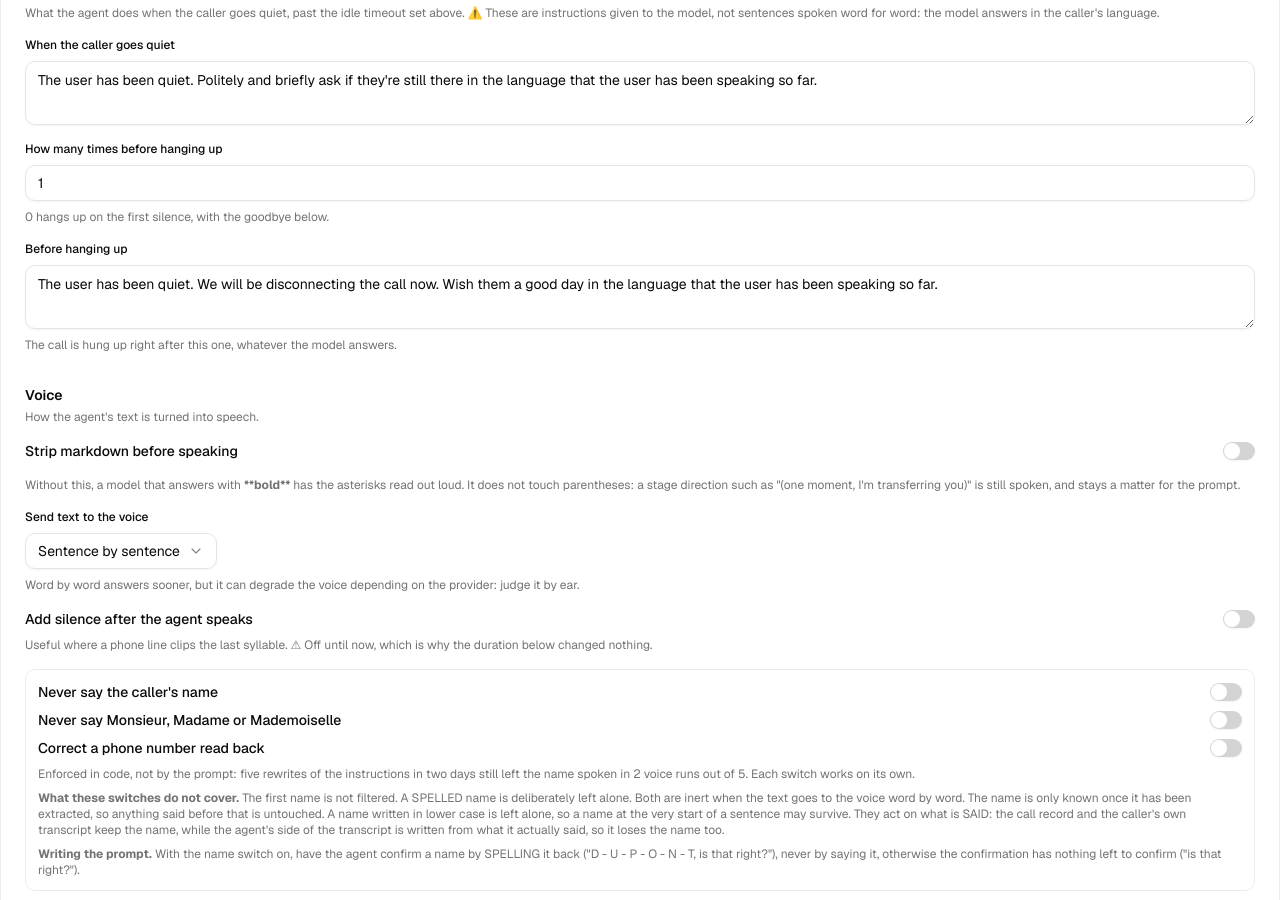
Section Reglages vocaux de la page de parametres › laisse le bouton Enregistrer eteint tant que rien n a change
This screenshot has width=1280, height=900.
(page scrolled)
Step 1. Click the switch named "strip markdown before speaking" in the row of "Strip markdown before speaking" → (1239, 451), box [1223,442,1255,460]
(page scrolled)
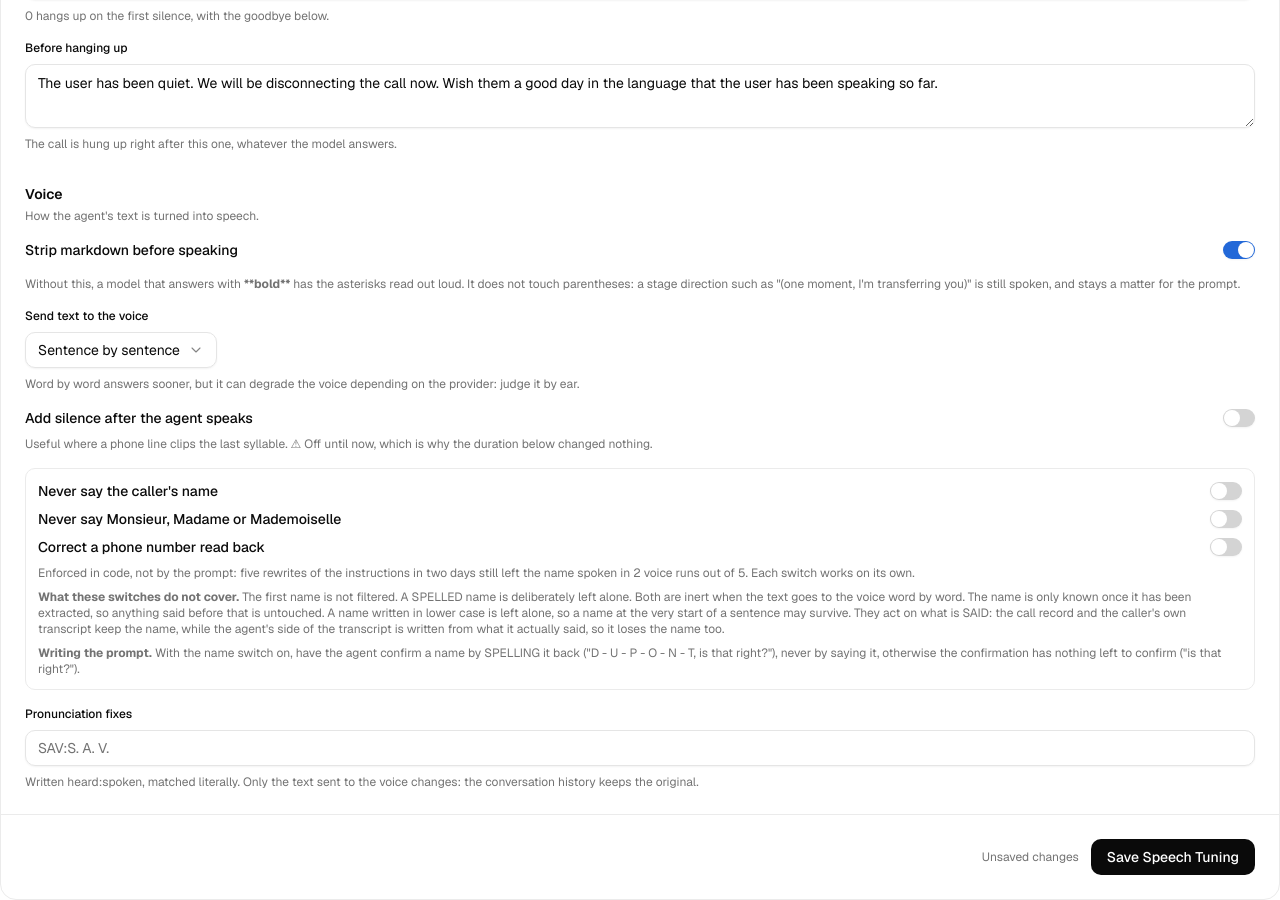
Expected: the button "Save Speech Tuning" is enabled, [1091,839,1255,875]
